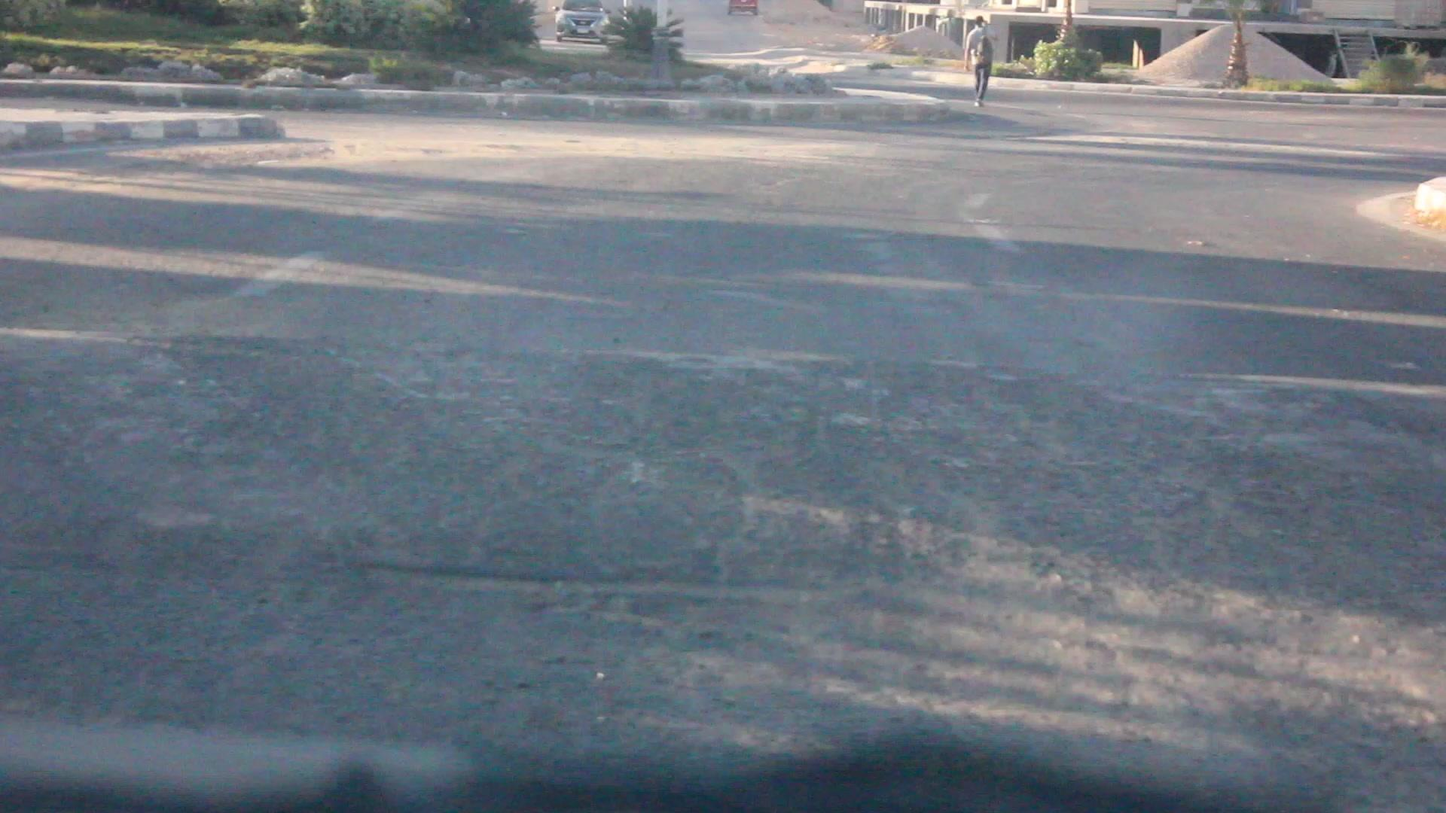Bump: (0, 326, 1445, 627)
